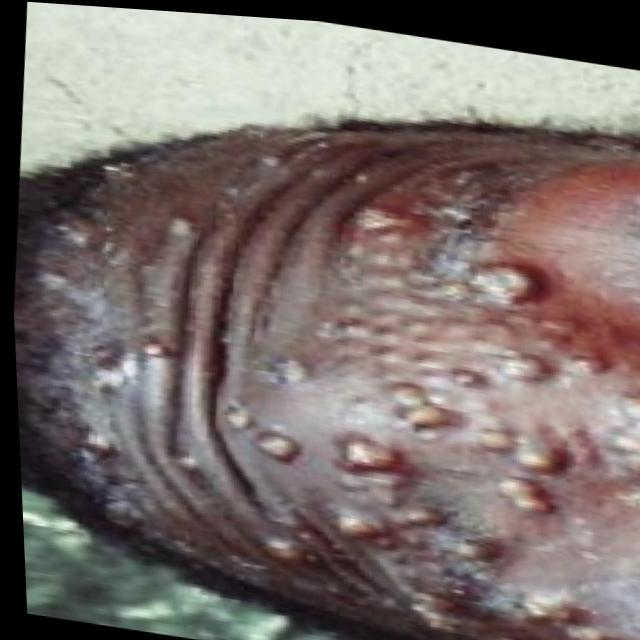Eczema: (25, 82, 640, 640)
